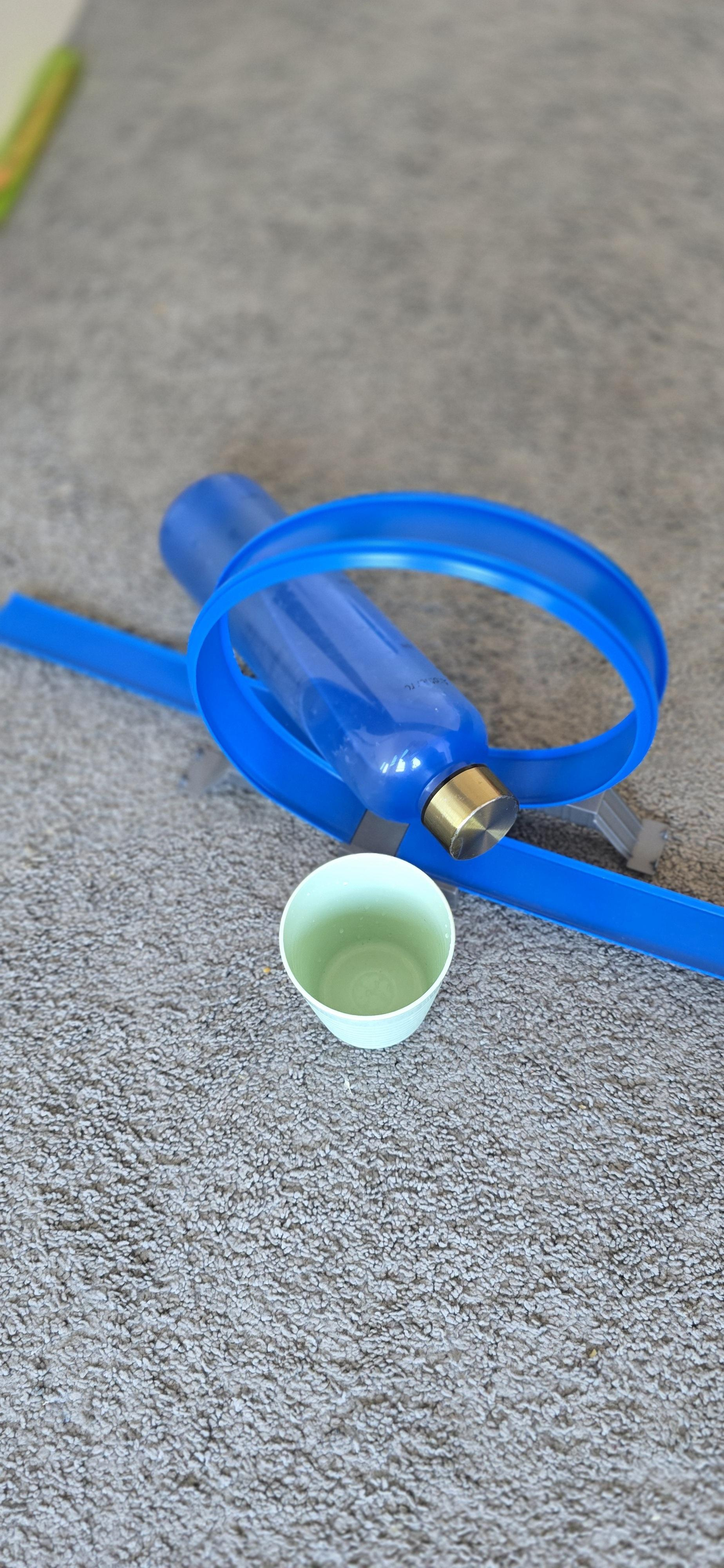bottle: (143, 479, 555, 853), (168, 470, 508, 859)
